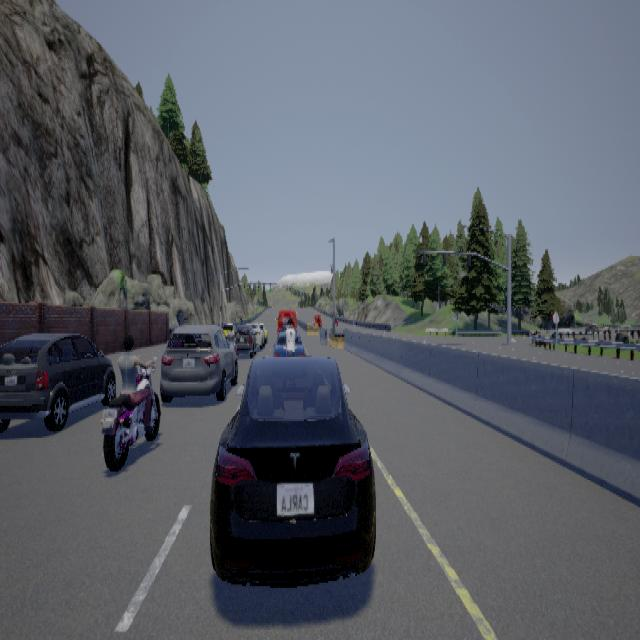bike: (285, 313, 299, 357)
motobike: (103, 332, 162, 473)
vehicle: (211, 308, 377, 586), (1, 326, 118, 434), (160, 320, 240, 403)
